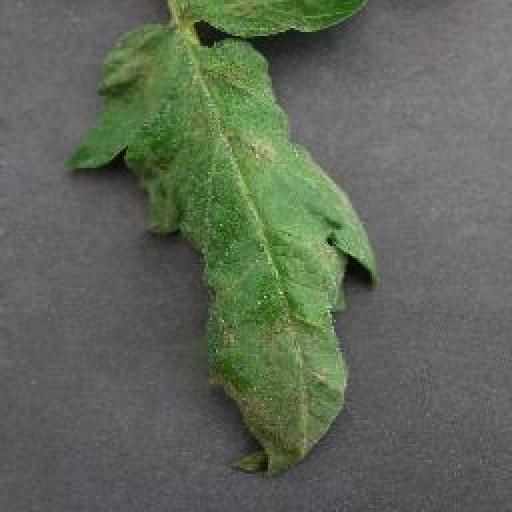disease_tomato: (60, 0, 374, 476)
